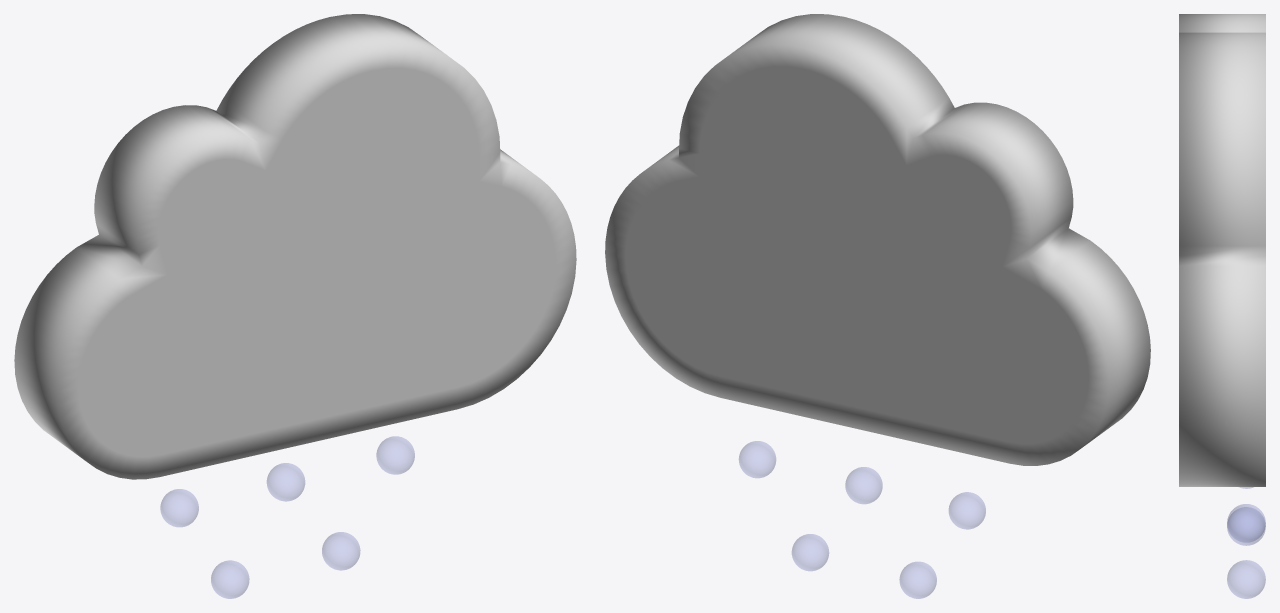
File: rainy.glb
3 views of the same model, side by side, from view 1: azimuth 30°, elevation 25°; view 2: azimuth 150°, elevation 25°; view 3: azimuth 270°, elevation 25° (orthographic). The views are drawn at different scales.
Parts seen in each view (by area): view 1: Curve, Roundcube.009, Roundcube.008, Roundcube.012, Roundcube.010, Roundcube.011; view 2: Curve, Roundcube.009, Roundcube.010, Roundcube.012, Roundcube.008, Roundcube.011; view 3: Curve, Roundcube.012, Roundcube.009, Roundcube.011.
Part boxes in pixels (x1=…): Curve: x1=14, y1=14, x2=576, y2=479; Roundcube.009: x1=376, y1=436, x2=414, y2=474; Roundcube.008: x1=267, y1=463, x2=304, y2=501; Roundcube.012: x1=322, y1=532, x2=360, y2=570; Roundcube.010: x1=160, y1=489, x2=198, y2=526; Roundcube.011: x1=211, y1=560, x2=249, y2=598; Curve: x1=605, y1=14, x2=1150, y2=465; Roundcube.009: x1=739, y1=441, x2=775, y2=477; Roundcube.010: x1=949, y1=492, x2=985, y2=529; Roundcube.012: x1=792, y1=534, x2=828, y2=570; Roundcube.008: x1=845, y1=467, x2=882, y2=503; Roundcube.011: x1=899, y1=562, x2=936, y2=598; Curve: x1=1179, y1=14, x2=1265, y2=486; Roundcube.012: x1=1227, y1=560, x2=1265, y2=598; Roundcube.009: x1=1227, y1=504, x2=1265, y2=542; Roundcube.011: x1=1227, y1=507, x2=1265, y2=545.
Bounding box in the file's own units: 1.82 × 1.83 × 0.2624.
